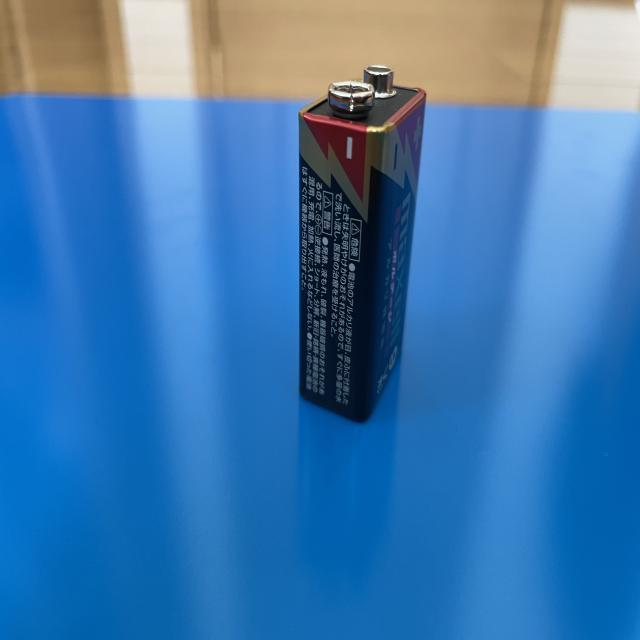9V: (298, 65, 428, 421)
